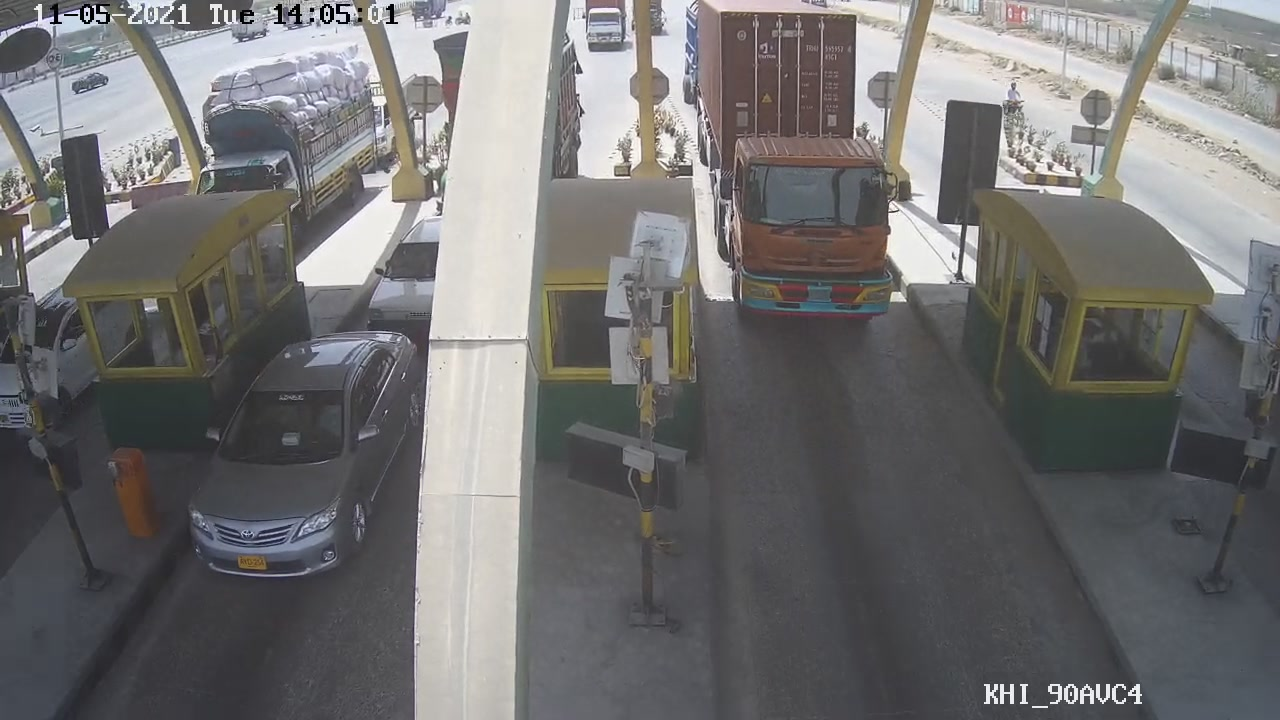F6: (687, 18, 915, 324)
